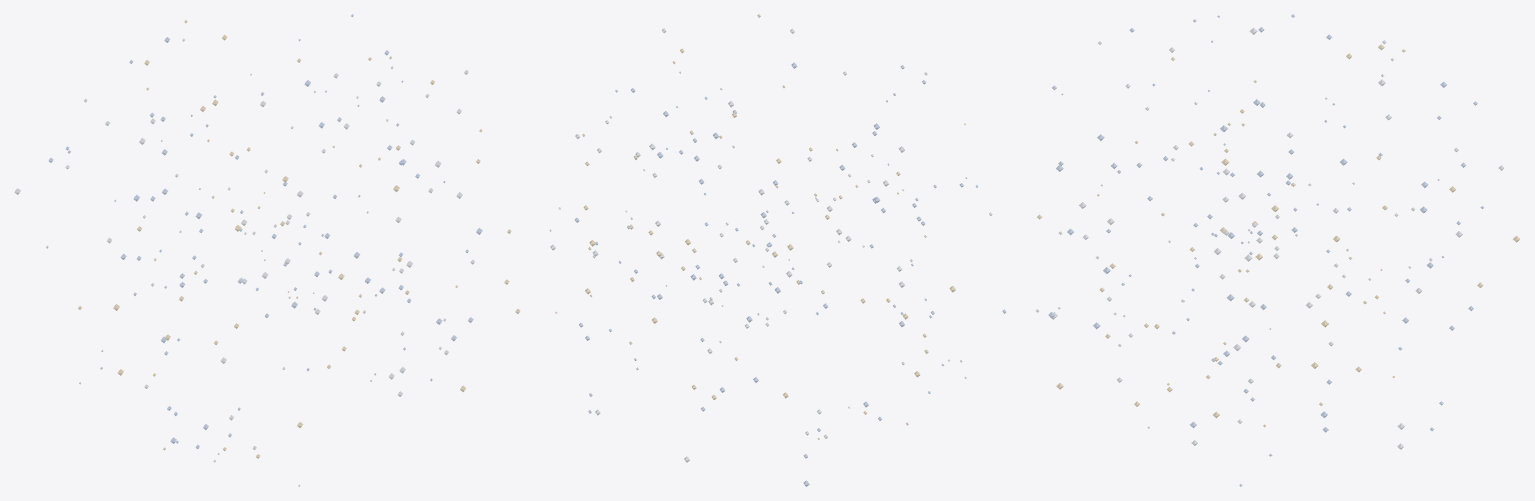
3 renders of one model, left to right at view 1: azimuth 30°, elevation 25°; view 2: azimuth 150°, elevation 25°; view 3: azimuth 270°, elevation 25°, orthographic. The views are drawn at different scales.
Bounding box in the file's own units: 4.55 × 4.44 × 4.61.
